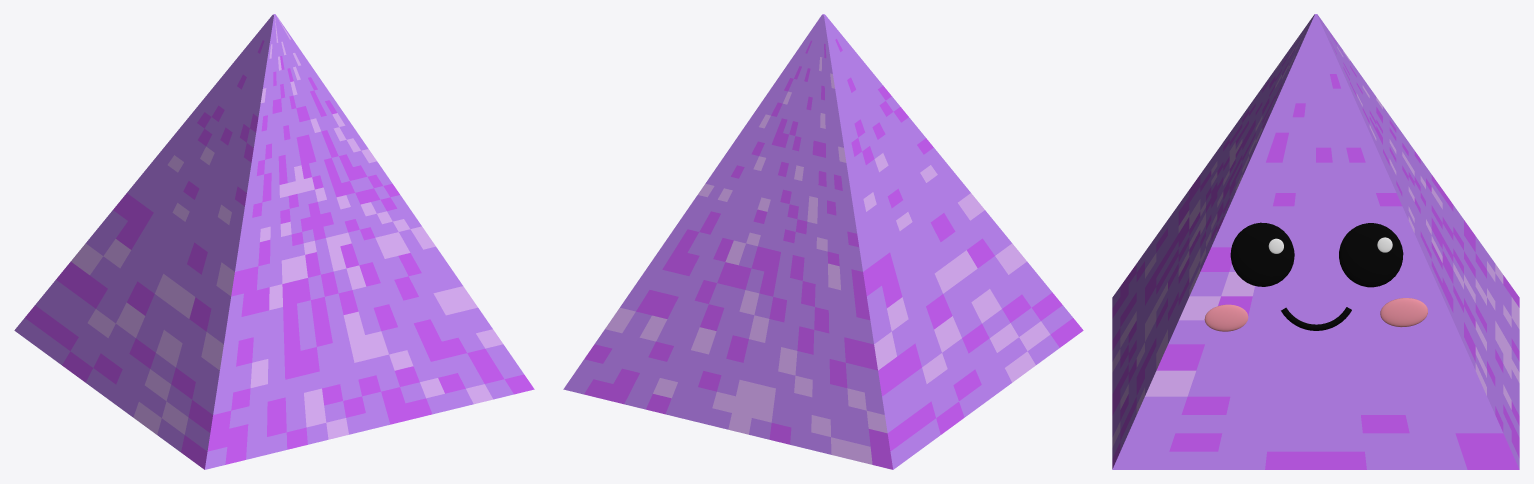
File: limasss.fbx
3 renders of one model, left to right at view 1: azimuth 30°, elevation 25°; view 2: azimuth 150°, elevation 25°; view 3: azimuth 270°, elevation 25°, orthographic. The views are drawn at different scales.
Visible parts, largest first — view 1: Cube; view 2: Cube; view 3: Cube.
Boxes of the visible parts, x1,y1,x2,y2 form: Cube: [14, 14, 534, 469]; Cube: [563, 14, 1083, 469]; Cube: [1112, 14, 1519, 469].
Size of the model in its own units: 332 by 332 by 332.
